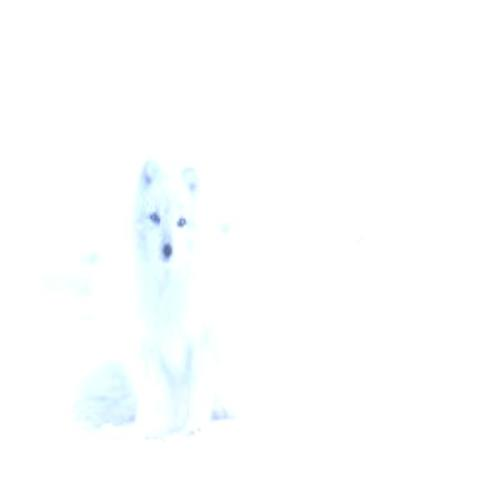arctic_fox-endangered: (125, 157, 228, 433)
